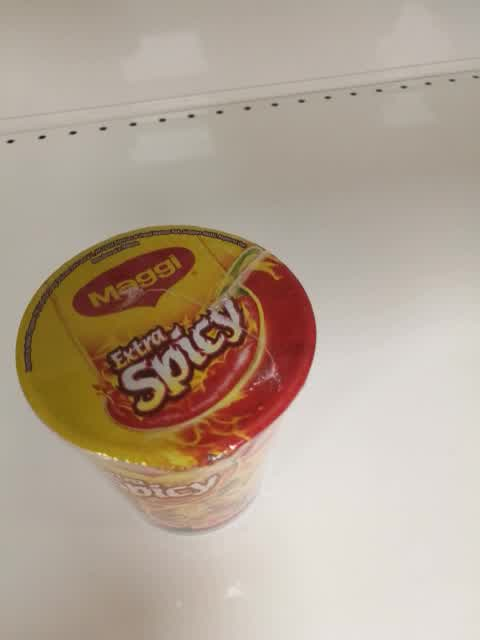maggi: (15, 223, 319, 534)
